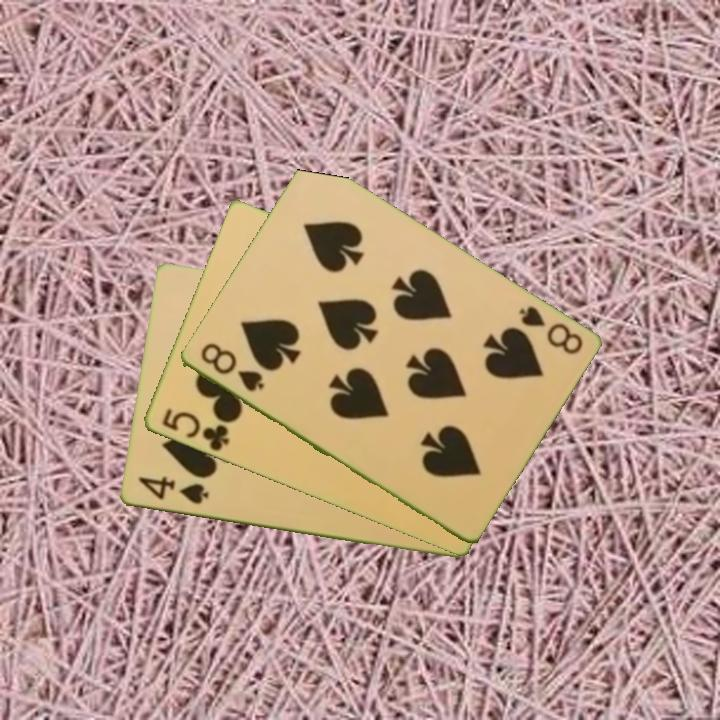4s: (134, 473, 212, 508)
5c: (157, 405, 232, 455)
8s: (514, 302, 585, 358), (196, 339, 266, 395)
